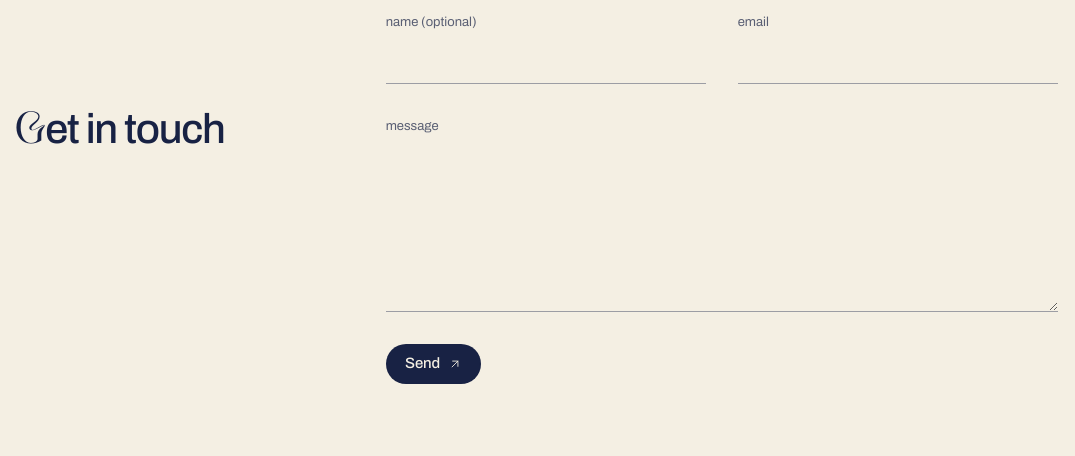
Scenario: missing configuration is reported, not silent
This screenshot has width=1075, height=456.
Type "a@b.co" into the field labelled "email" at (898, 61), box [738, 38, 1058, 84]
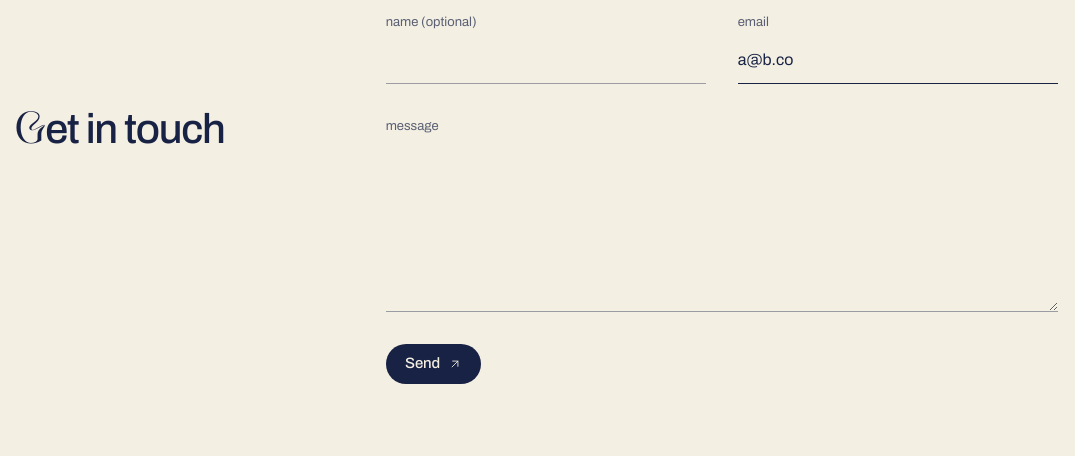
Type "hello <i>there</i>" into the text box labelled "message" at (722, 227), box [386, 142, 1058, 312]
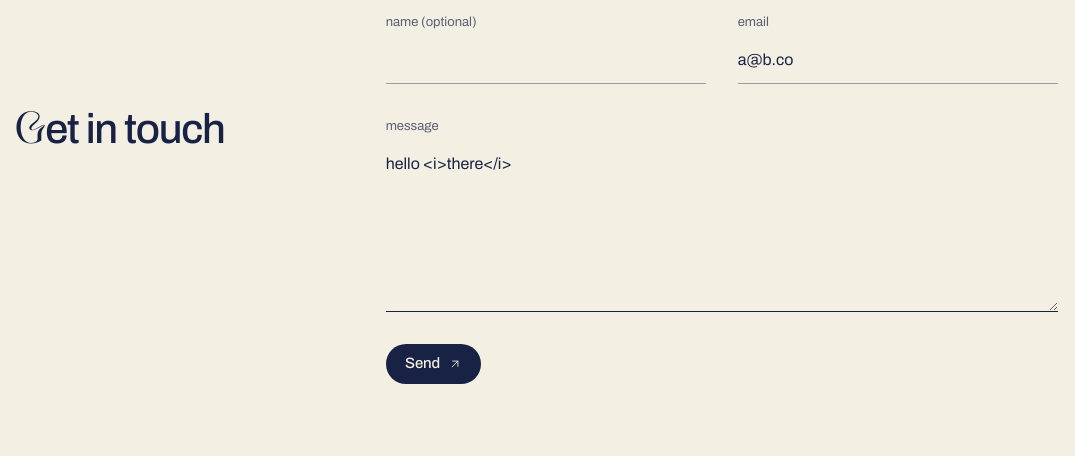
Click the button "Send" at (434, 364), box [386, 344, 482, 384]
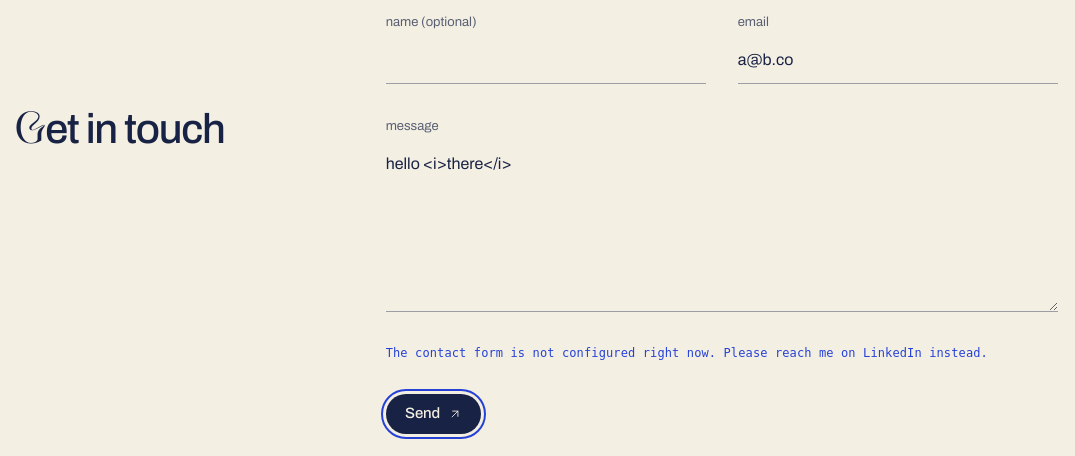
Result: the message shows "not configured" at [386, 346, 988, 360]
